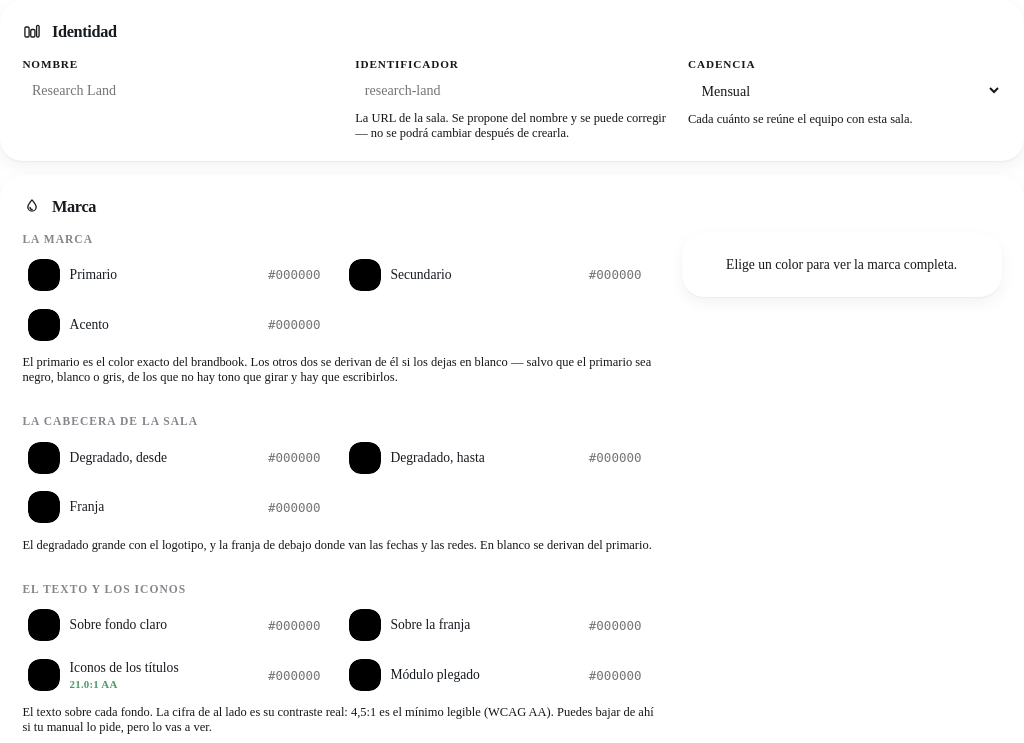
Test: FormularioSala › avisa si el identificador ya está tomado
Type "Más Salud" into the field labelled "Nombre". click: (179, 90)
box: [22,74,336,106]
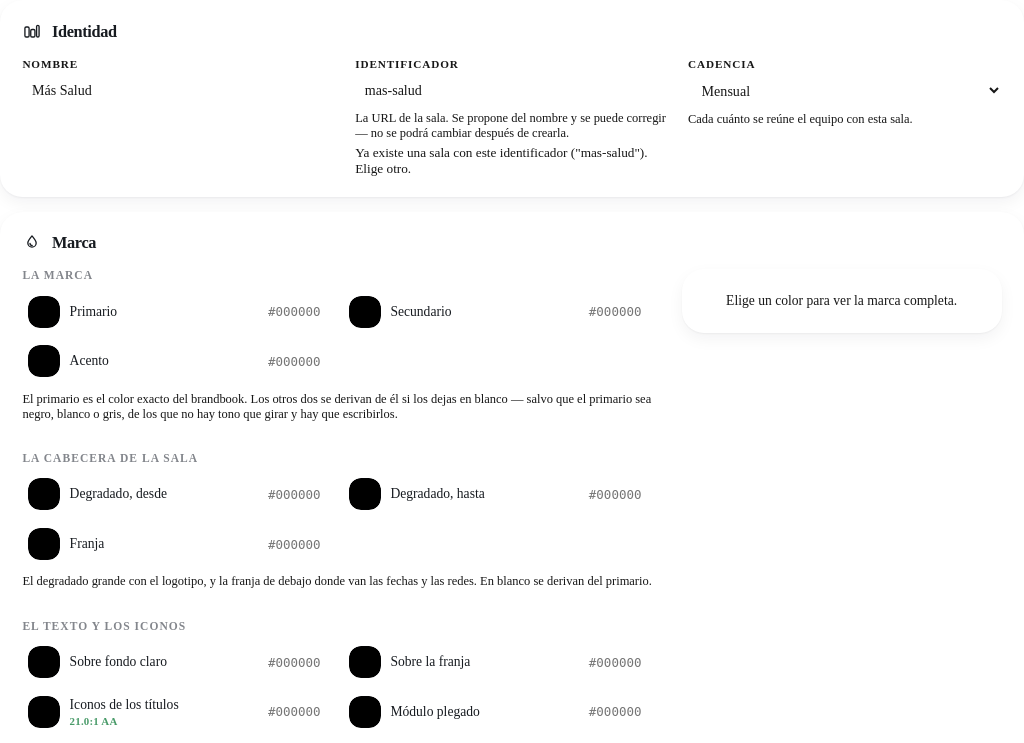
Result: the text "Ya existe una sala" is shown at [355,145,581,160]
